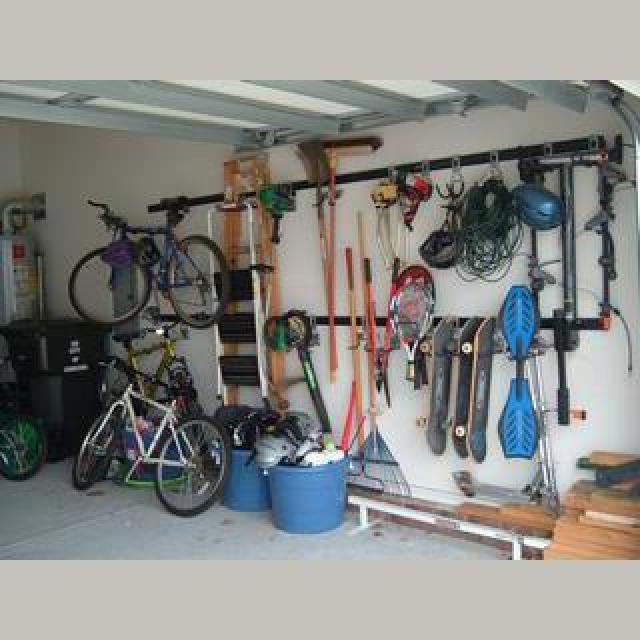Person: (72, 324, 230, 520), (70, 196, 232, 330)
